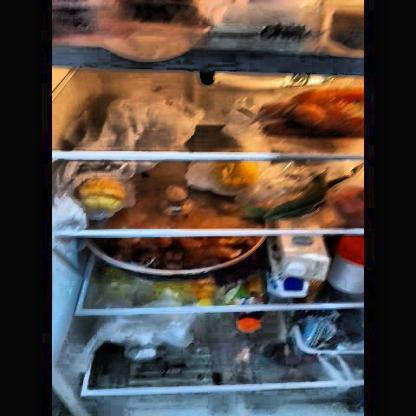broccoli: (296, 308, 364, 358)
carrot: (264, 90, 365, 136)
cheese: (212, 5, 323, 53)
green_chillies: (256, 178, 335, 218)
lemon: (76, 179, 134, 216), (210, 159, 261, 193)
milk: (270, 236, 330, 298)
tomato: (330, 186, 364, 220)
